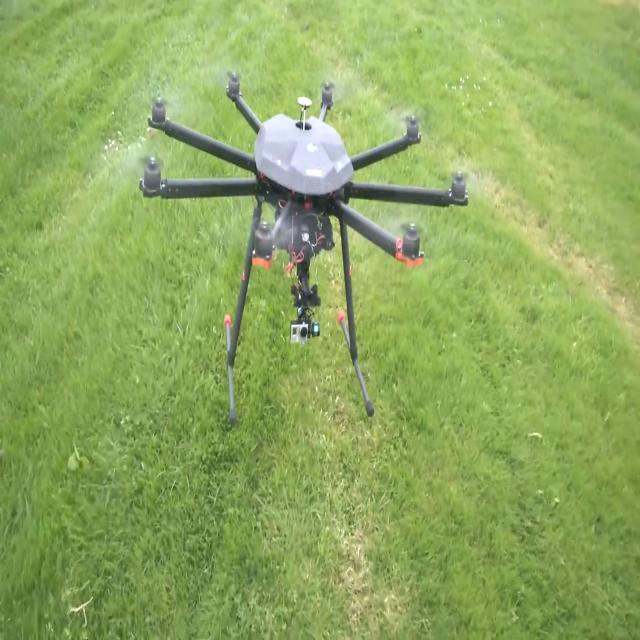drone: (115, 41, 489, 471)
